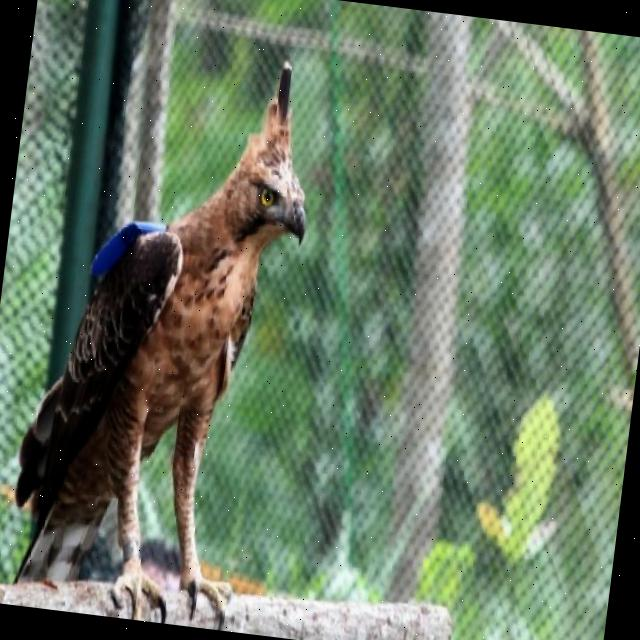Elang Jawa: (0, 9, 338, 635)
